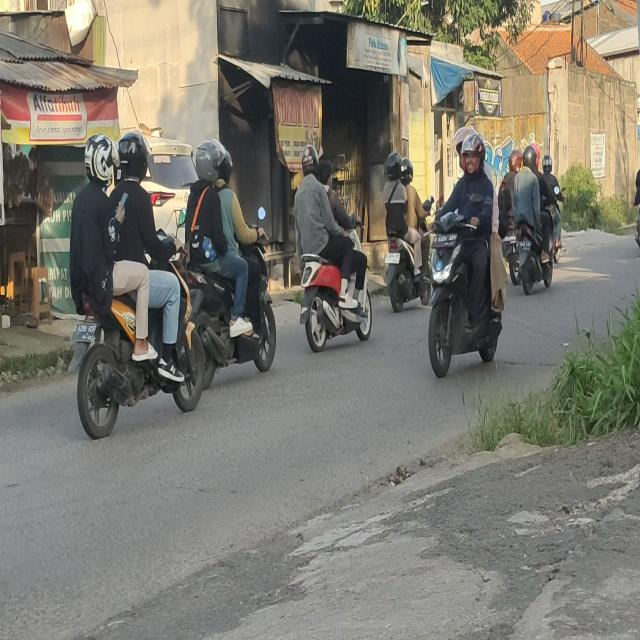helmet: (120, 126, 154, 187), (85, 135, 119, 190), (196, 142, 220, 186), (217, 146, 236, 188), (465, 136, 485, 175), (456, 126, 476, 162), (301, 146, 320, 176), (386, 152, 402, 180), (524, 145, 537, 171), (402, 158, 414, 185), (509, 150, 522, 173), (532, 142, 542, 167), (543, 156, 553, 170)
no-helmet: (321, 161, 333, 188)
